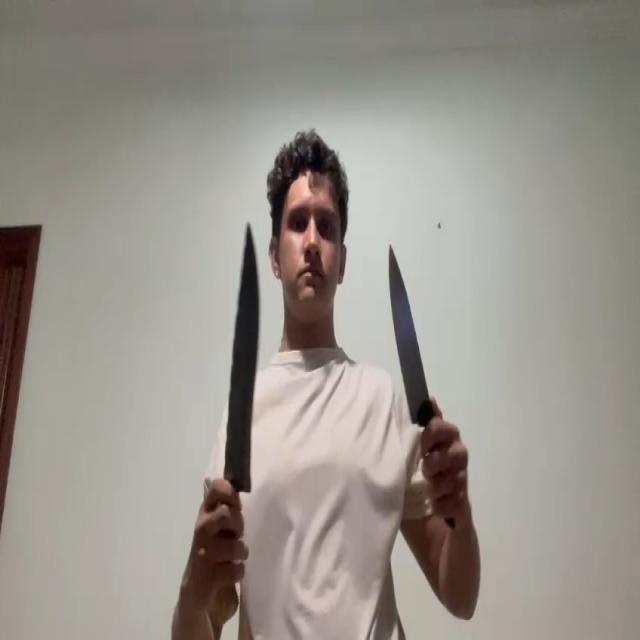knife: (222, 220, 261, 492), (386, 242, 431, 417)
